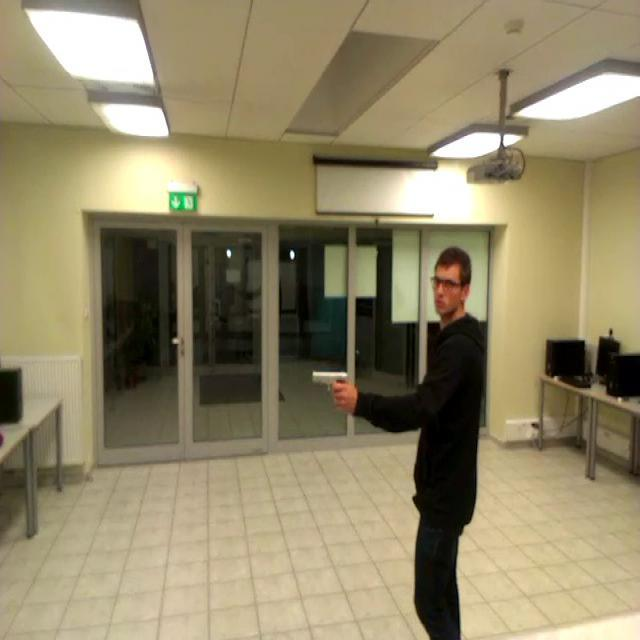Gun: (313, 370, 348, 410)
